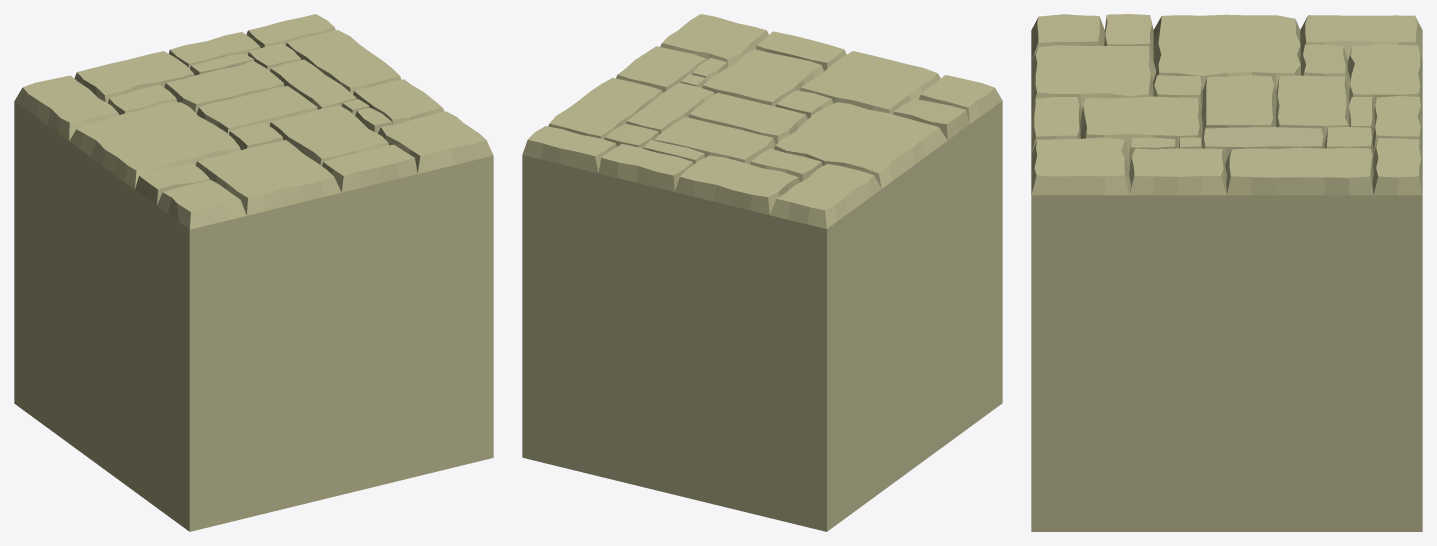
Rendered from mazeblock_floor.fbx.
The picture shows the model from 3 angles, left to right: view 1: azimuth 30°, elevation 25°; view 2: azimuth 150°, elevation 25°; view 3: azimuth 270°, elevation 25°; orthographic projection. The views are drawn at different scales.
Visible parts, largest first — view 1: Cube; view 2: Cube; view 3: Cube.
Part boxes in pixels (box(x1,y1,x2,y2)): Cube: box(14, 14, 493, 531); Cube: box(522, 14, 1002, 531); Cube: box(1031, 14, 1422, 531).
Bounding box in the file's own units: 200 × 200 × 200.
